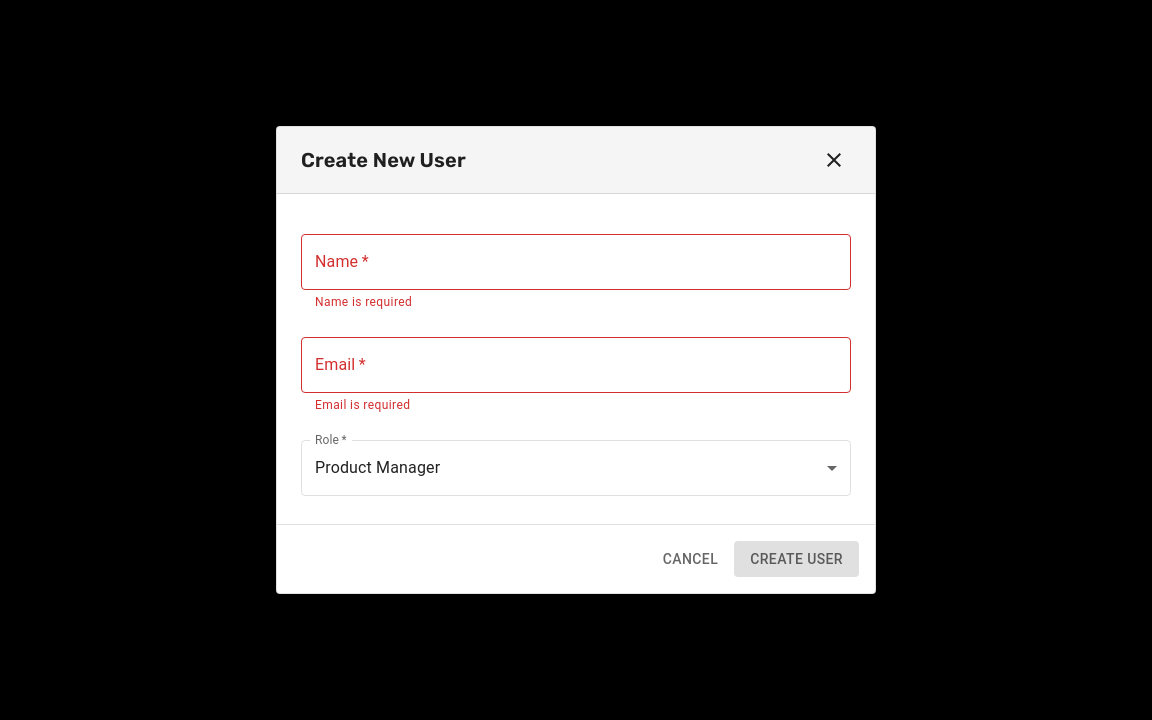
it: CreateUserDialog › should display success state with password
The image size is (1152, 720).
In the field labelled "Name *": (576, 262) left=301, top=234, right=851, bottom=290, type "Test User"
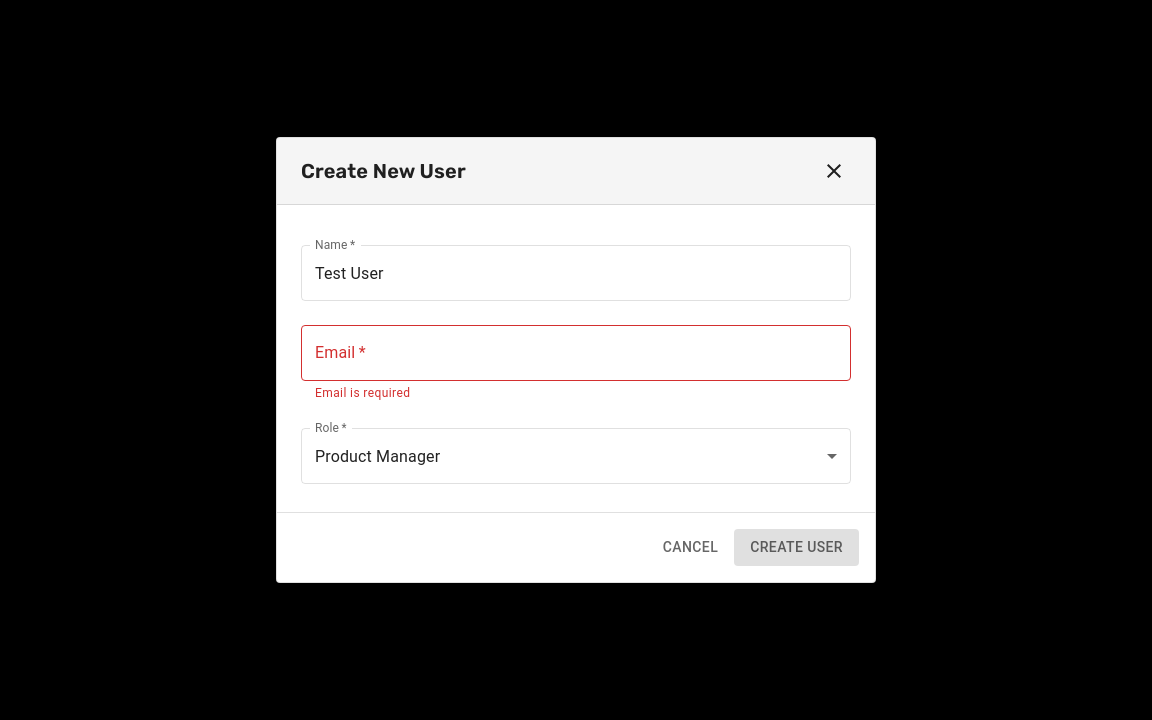
In the field labelled "Email *": (576, 353) left=301, top=325, right=851, bottom=381, type "test@example.com"
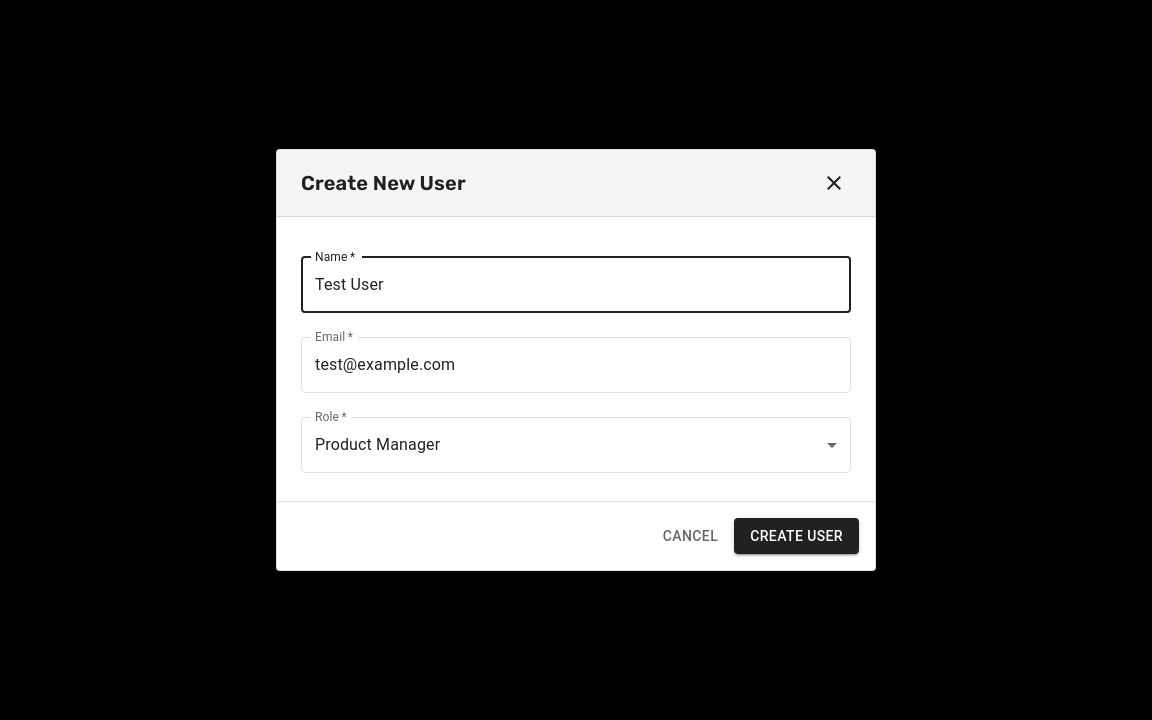
Now the button "Create User" is enabled
Click the button "Create User": (797, 536) left=734, top=518, right=859, bottom=554
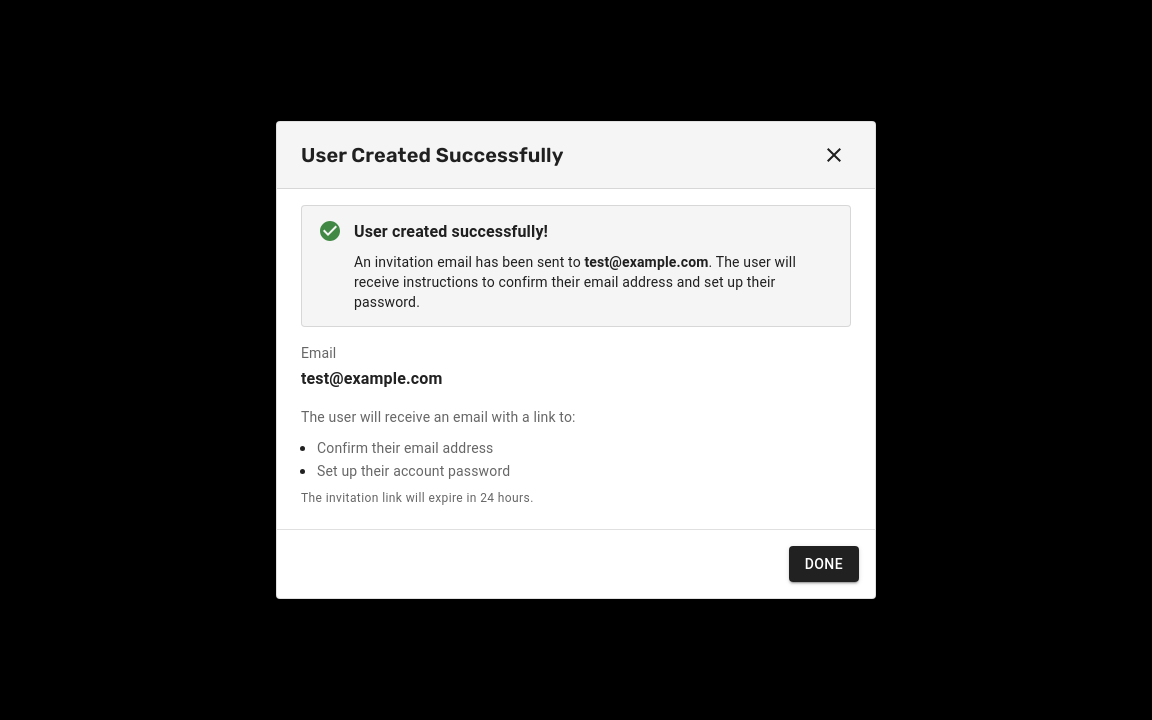
Now the heading "User Created Successfully" is shown, box left=301, top=139, right=564, bottom=171
Now the text "User created successfully!" is shown, box left=354, top=222, right=548, bottom=241
Now the text "invitation email has been sent" is shown, box left=354, top=254, right=584, bottom=270
